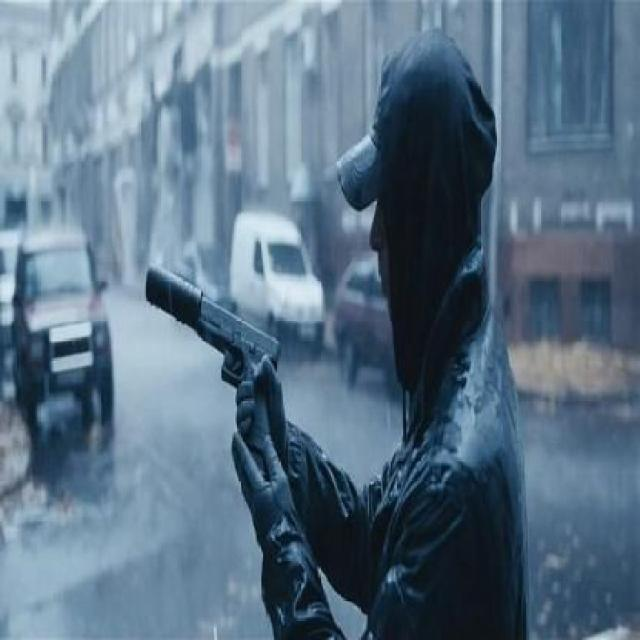gun: (138, 244, 282, 476)
